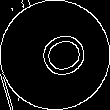O_SW: (23, 25, 87, 85)
